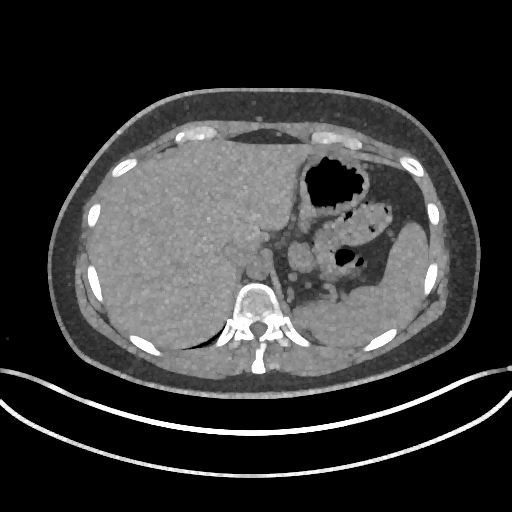Lesion: (359, 229, 376, 248)
